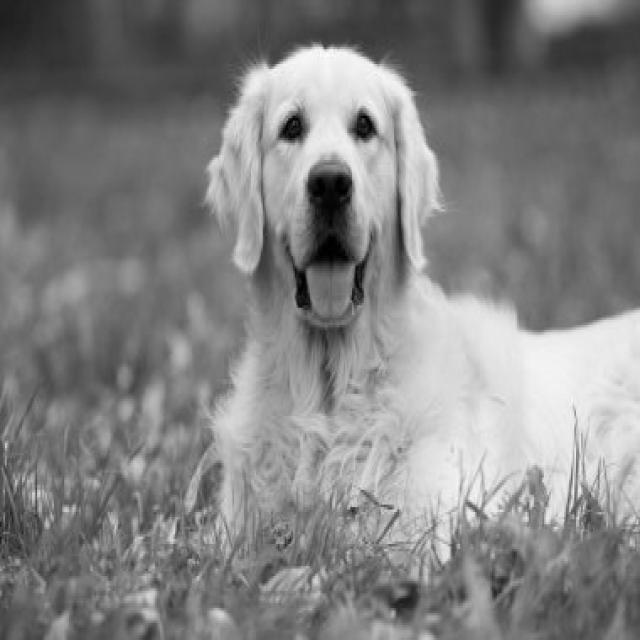Animal: (207, 45, 640, 532)
